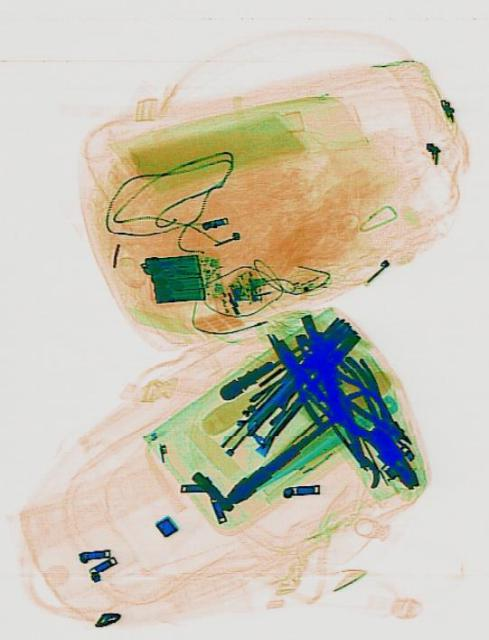Pliers: (311, 345, 433, 505)
